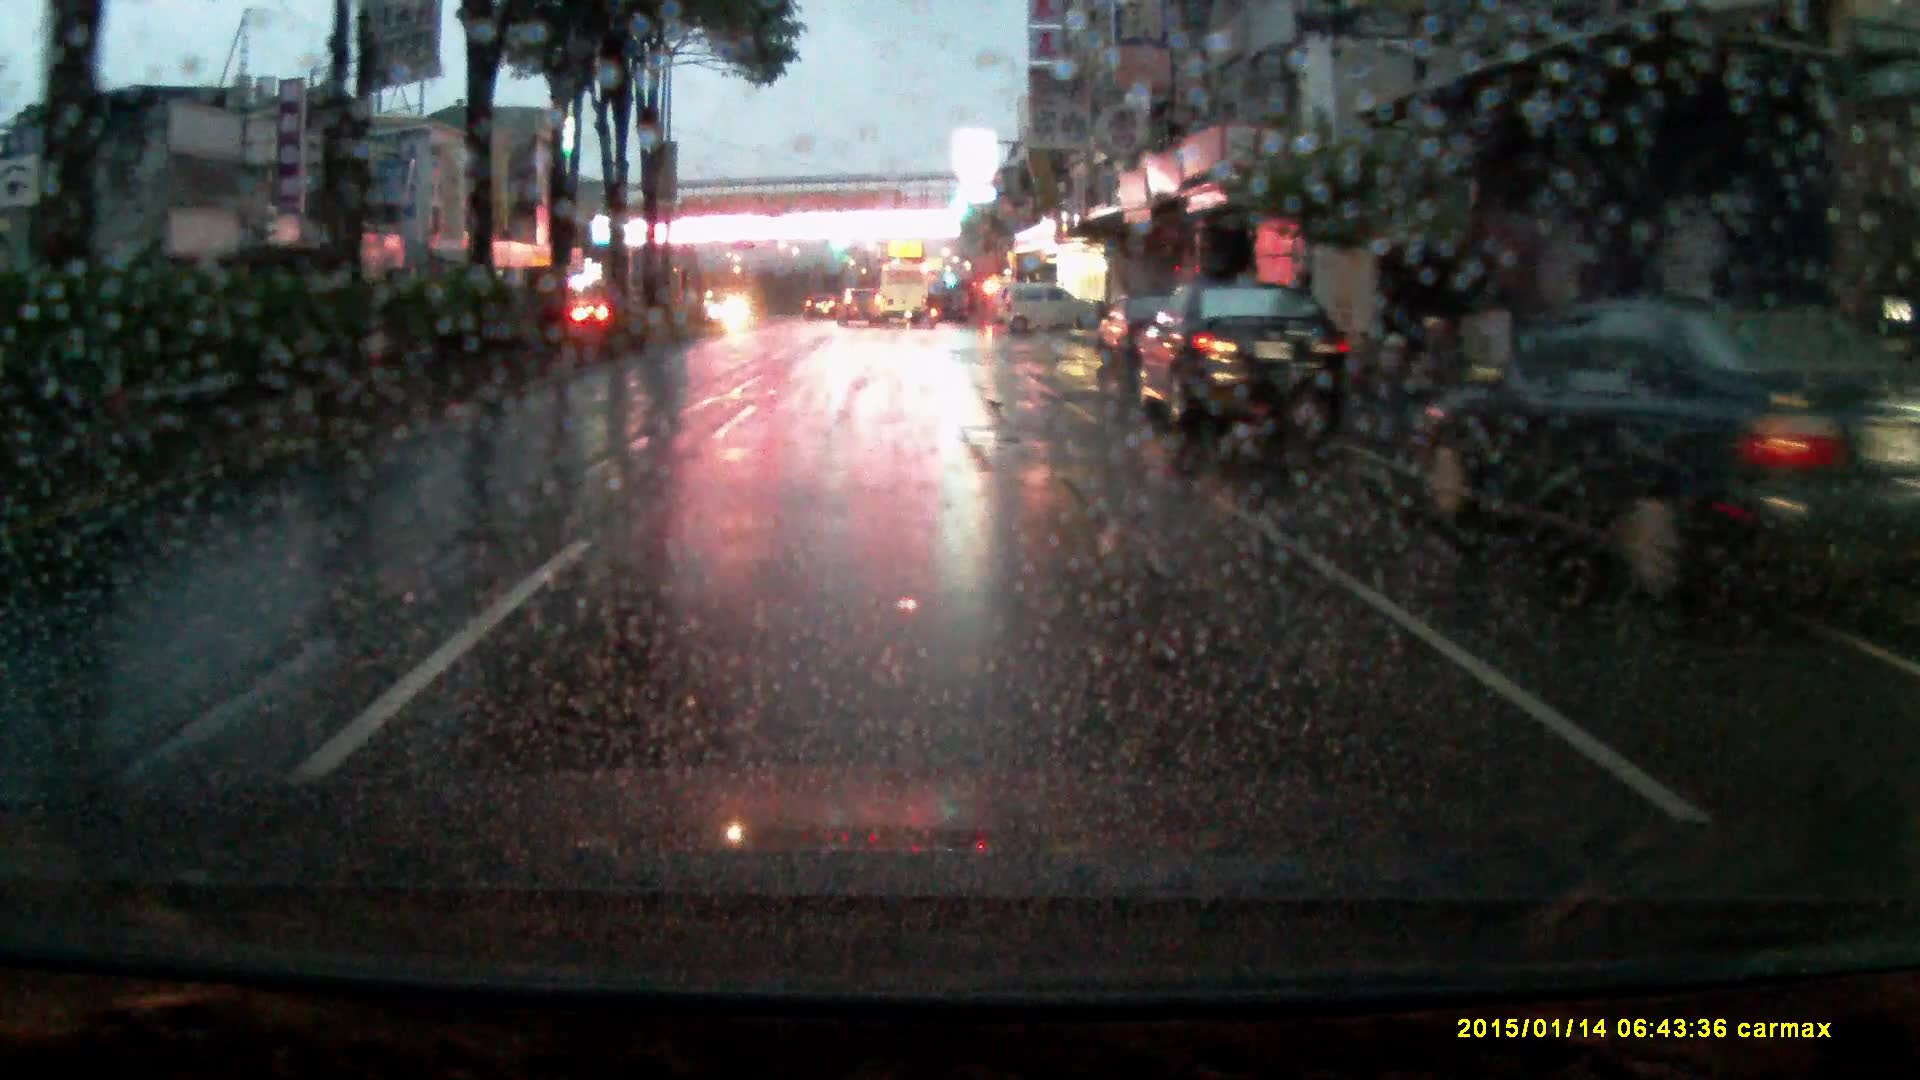vehicle: (1422, 305, 1880, 641), (1135, 284, 1348, 448), (1093, 297, 1179, 377), (1000, 287, 1095, 343), (862, 266, 930, 331), (835, 293, 884, 335), (804, 297, 837, 327)
